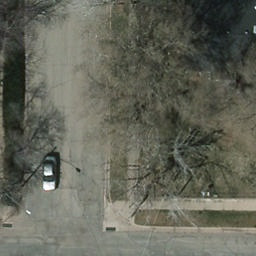car: (41, 155, 59, 192)
